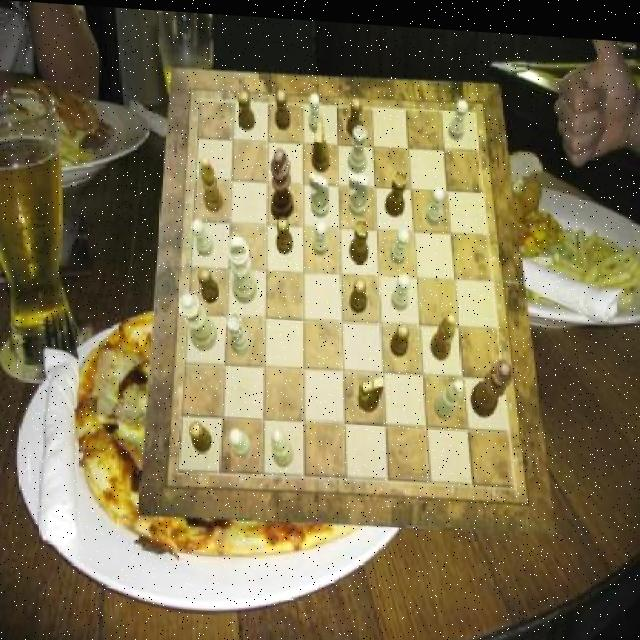bishop: (200, 154, 223, 209), (429, 307, 454, 356)
black-bishop: (270, 145, 292, 217)
black-king: (357, 369, 383, 408), (312, 118, 329, 170)
black-knight: (190, 419, 212, 451), (389, 316, 409, 351), (198, 266, 218, 301), (237, 88, 254, 129), (346, 92, 362, 133), (274, 87, 289, 128), (349, 274, 366, 309), (276, 213, 292, 250)
black-pawn: (470, 351, 512, 413)
black-queen: (383, 165, 406, 212), (349, 214, 369, 260)
black-rook: (433, 372, 463, 415), (271, 425, 294, 464)
white-bishop: (227, 232, 257, 301)
white-king: (348, 166, 368, 213), (309, 167, 329, 214)
white-knight: (191, 216, 214, 253), (448, 93, 468, 135), (389, 268, 409, 305), (389, 222, 409, 259), (426, 181, 444, 222), (308, 90, 324, 131), (312, 215, 330, 251), (228, 426, 251, 454)
white-pawn: (179, 288, 217, 348)
white-queen: (226, 309, 250, 352), (346, 121, 366, 170)
